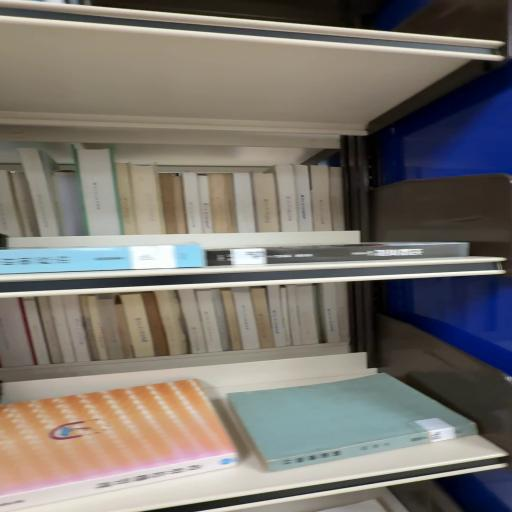flat: (1, 380, 239, 512), (228, 375, 478, 472), (1, 245, 207, 276), (206, 243, 470, 267)
